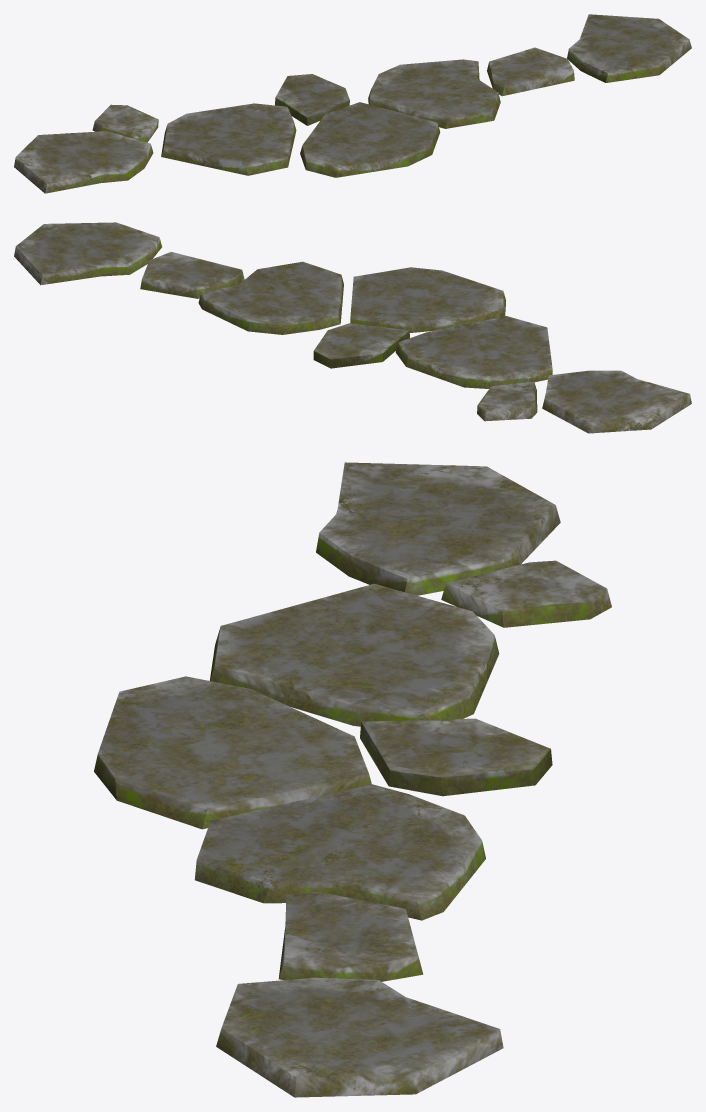
Rendered from ROK0210008.fbx.
The picture shows the model from 3 angles, top to bottom: view 1: azimuth 30°, elevation 25°; view 2: azimuth 150°, elevation 25°; view 3: azimuth 270°, elevation 25°; orthographic projection. The views are drawn at different scales.
Parts seen in each view (by area): view 1: smROK0210008; view 2: smROK0210008; view 3: smROK0210008.
Boxes of the visible parts, bbox=[...] form: smROK0210008: bbox=[14, 14, 691, 193]; smROK0210008: bbox=[14, 222, 691, 433]; smROK0210008: bbox=[94, 462, 611, 1097].
Size of the model in its own units: 740 by 10 by 262.
